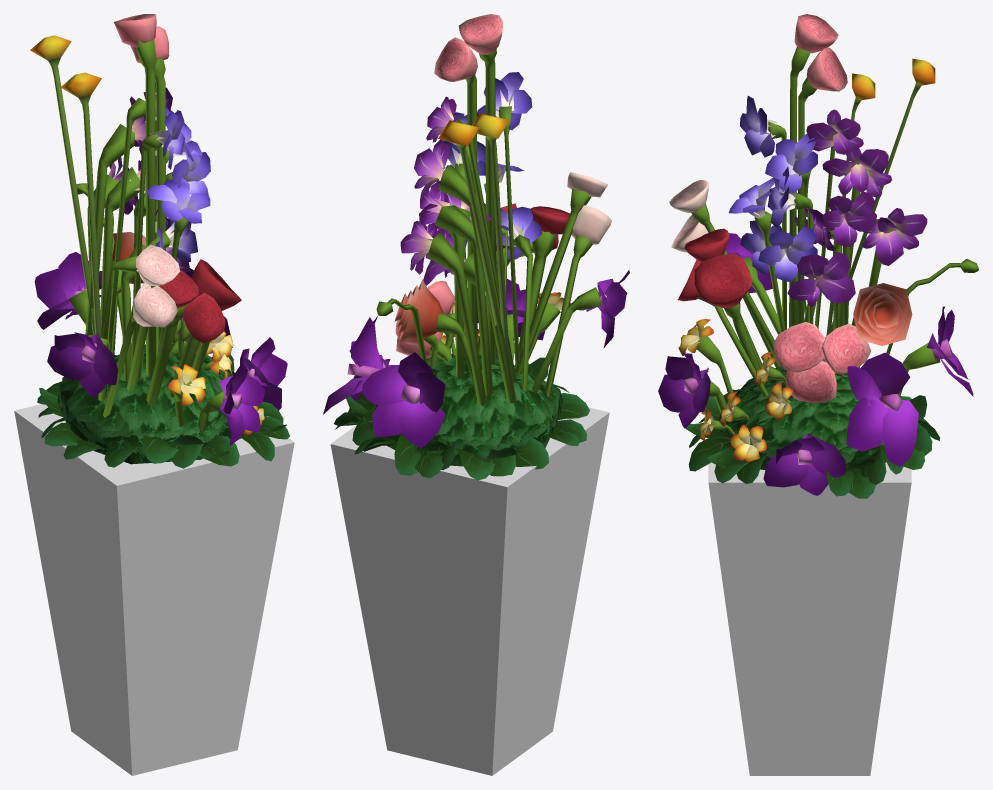
File: Flower02.fbx
3 renders of one model, left to right at view 1: azimuth 30°, elevation 25°; view 2: azimuth 150°, elevation 25°; view 3: azimuth 270°, elevation 25°, orthographic.
Parts seen in each view (by area): view 1: Flower02; view 2: Flower02; view 3: Flower02.
Part boxes in pixels (bbox=[...]): Flower02: bbox=[14, 14, 294, 775]; Flower02: bbox=[323, 14, 629, 775]; Flower02: bbox=[658, 14, 978, 775].
Bounding box in the file's own units: 4.93 × 13.96 × 5.61.
Materials: 2 (1 with a texture image).
